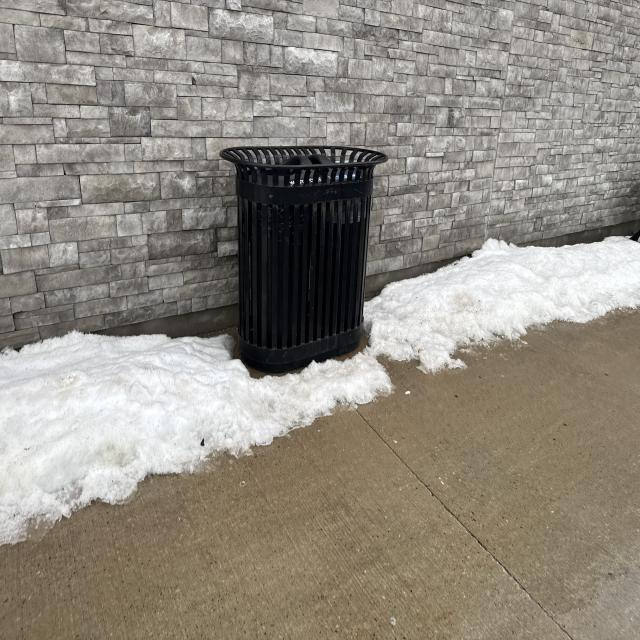Dustbin: (217, 143, 387, 375)
